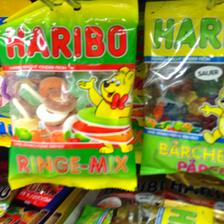Suessigkeit: (3, 1, 143, 193), (137, 0, 223, 176)
